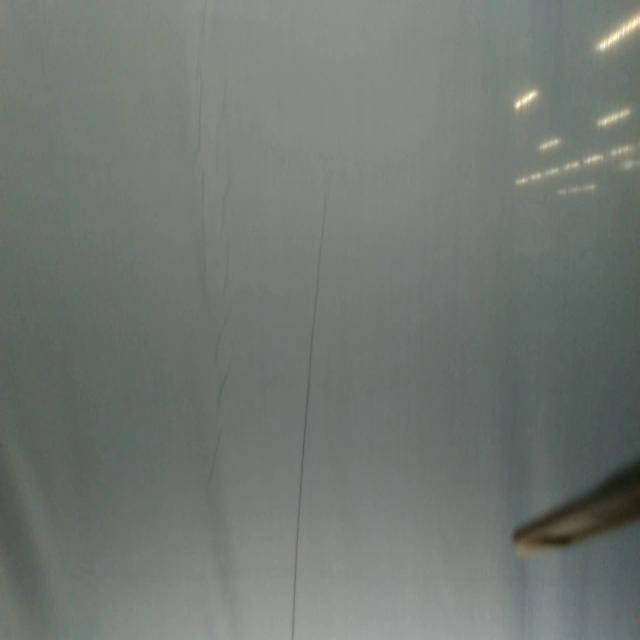crease: (288, 192, 328, 640), (212, 305, 238, 357), (204, 430, 224, 494), (194, 64, 206, 154), (217, 366, 233, 410)
